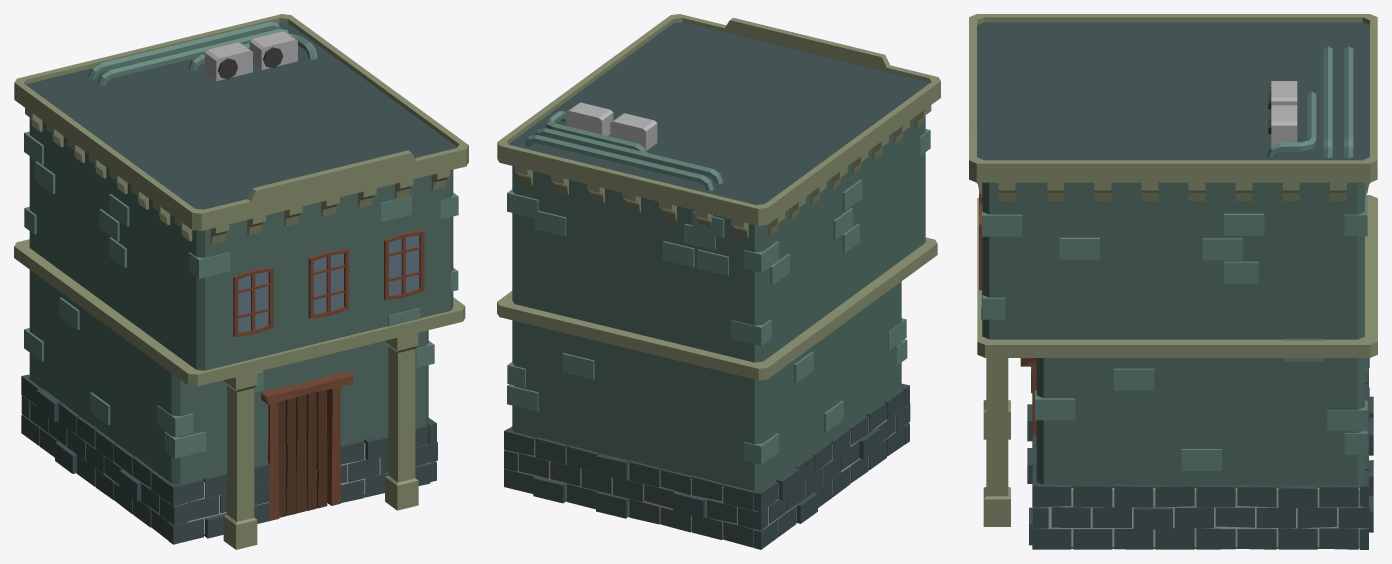
The model's file is 2Story_Columns.obj.
3 renders of one model, left to right at view 1: azimuth 30°, elevation 25°; view 2: azimuth 150°, elevation 25°; view 3: azimuth 270°, elevation 25°, orthographic. The views are drawn at different scales.
Size of the model in its own units: 2.16 by 2.77 by 2.49.
